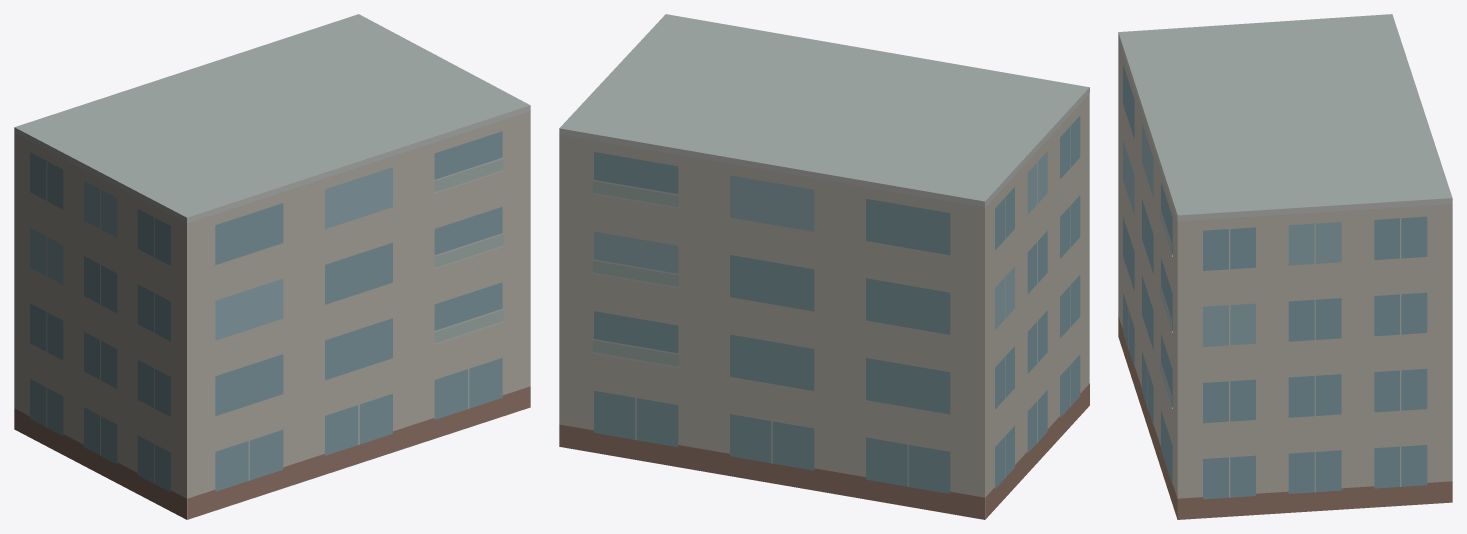
Rendered from survey-upis-32970014.glb.
3 views of the same model, side by side, from view 1: azimuth 30°, elevation 25°; view 2: azimuth 150°, elevation 25°; view 3: azimuth 270°, elevation 25° (orthographic). The views are drawn at different scales.
Parts seen in each view (by area): view 1: survey-upis-32970014.tmp; view 2: survey-upis-32970014.tmp; view 3: survey-upis-32970014.tmp.
Boxes of the visible parts, left/top/right/bottom form: survey-upis-32970014.tmp: left=14, top=14, right=530, bottom=519; survey-upis-32970014.tmp: left=559, top=14, right=1089, bottom=519; survey-upis-32970014.tmp: left=1118, top=14, right=1452, bottom=519.
Bounding box in the file's own units: 18.26 × 12.86 × 12.81.
